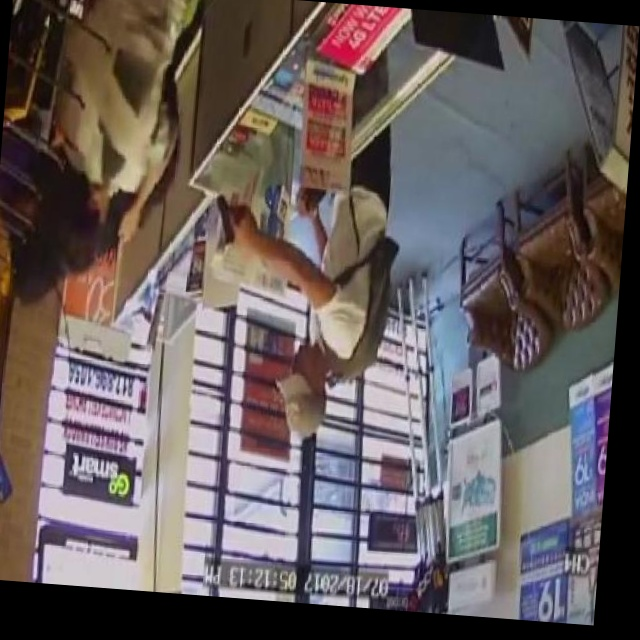gun: (211, 192, 255, 248)
